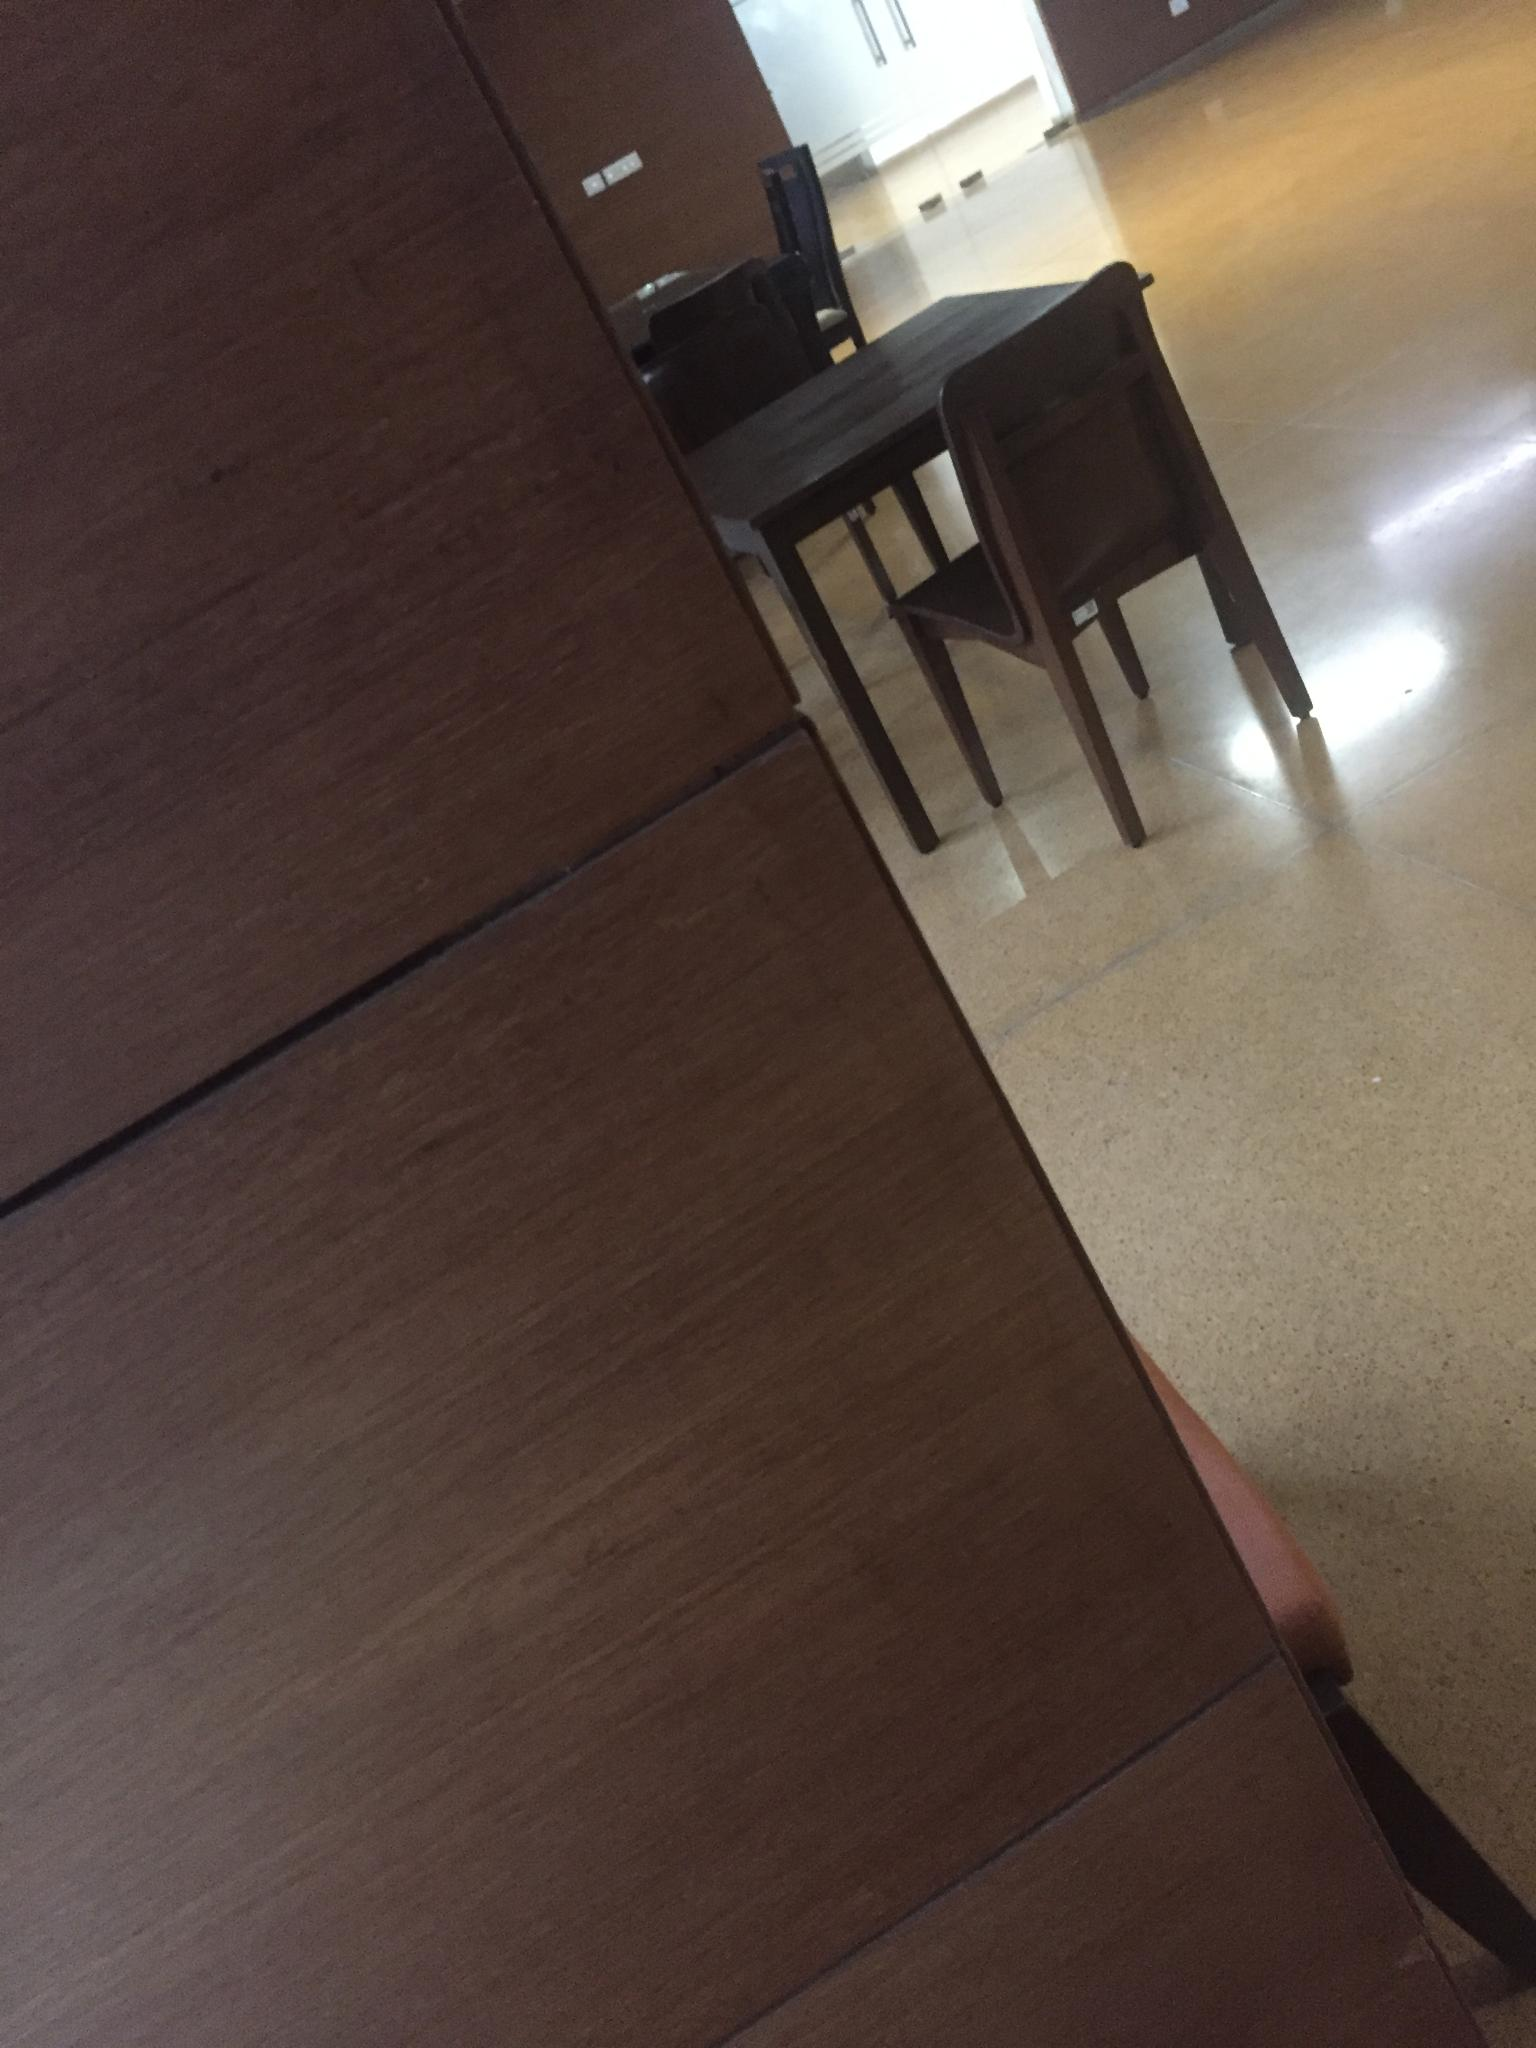chair: (886, 259, 1314, 849), (638, 272, 948, 854), (742, 145, 886, 395)
